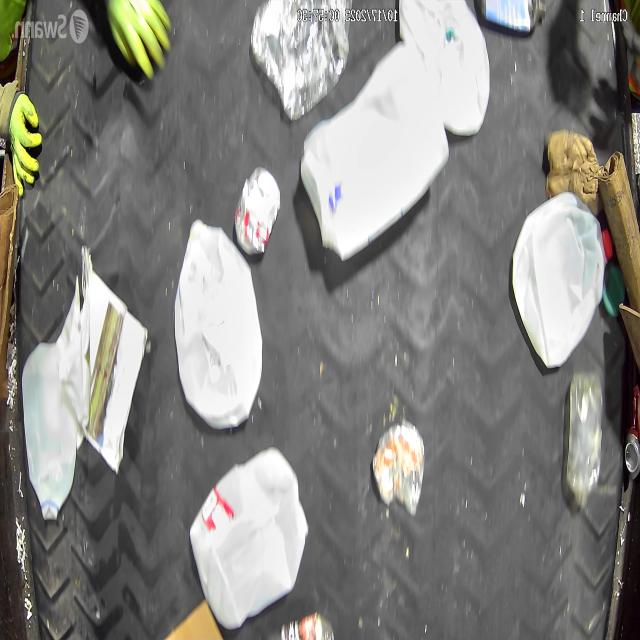can: (234, 164, 281, 256), (625, 386, 640, 477)
milk_jug: (297, 36, 448, 262), (188, 447, 306, 631), (172, 216, 261, 430), (510, 190, 613, 374), (398, 0, 490, 135), (22, 336, 82, 529)
plastic_bottle: (560, 372, 604, 510)
